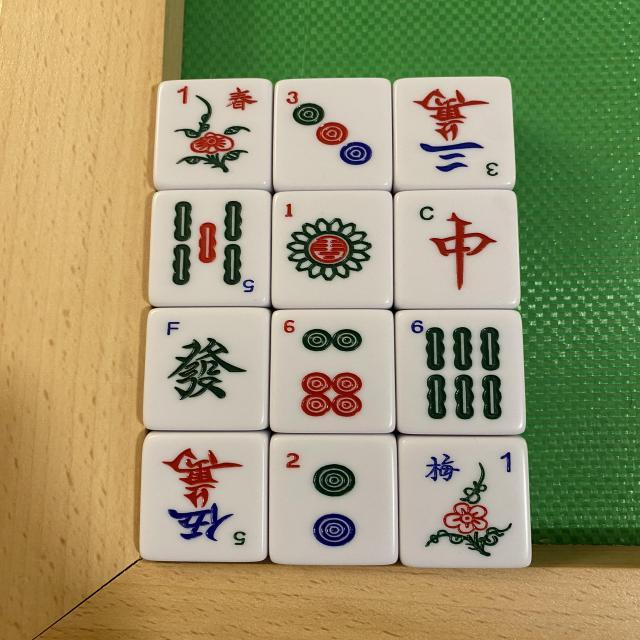bf1: (398, 431, 528, 566)
bs1: (162, 84, 266, 185)
hdg: (143, 305, 270, 431)
hdr: (392, 188, 517, 308)
sb5: (148, 191, 274, 309)
sb6: (395, 314, 521, 438)
sc3: (392, 79, 510, 191)
sc5: (140, 434, 266, 564)
sd1: (281, 194, 388, 304)
sd2: (267, 438, 393, 569)
sd3: (272, 80, 388, 192)
sd6: (273, 308, 395, 433)
